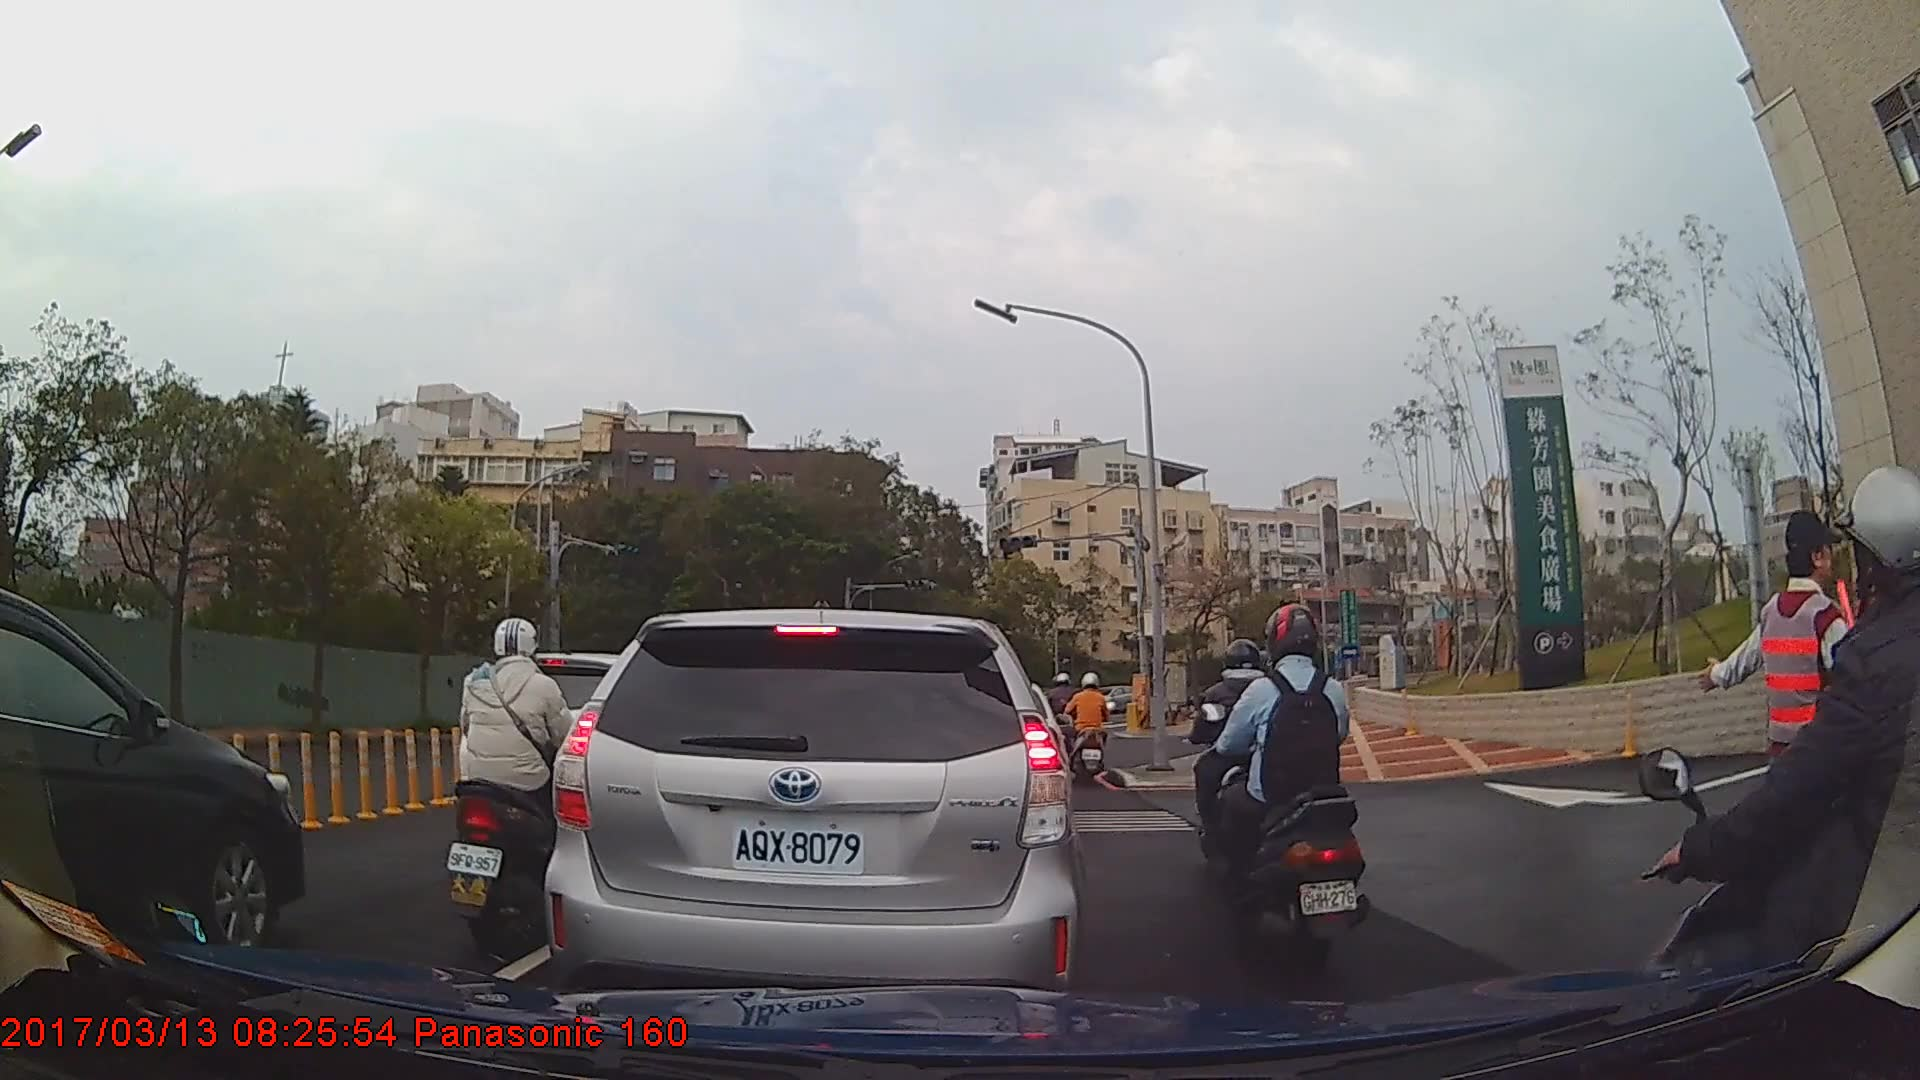pedestrian: (1694, 510, 1884, 994)
rider: (1648, 464, 1920, 1080), (1205, 603, 1367, 970), (446, 616, 597, 949), (1067, 669, 1113, 779)
vehicle: (542, 608, 1085, 1004), (0, 585, 305, 965)
